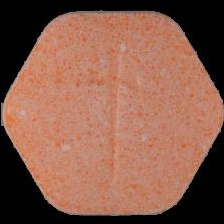35356-004: (0, 0, 224, 224)
